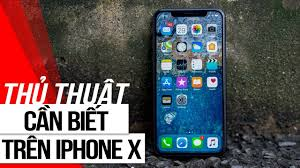iphone: (150, 10, 228, 157)
iphone10: (150, 9, 228, 156)
